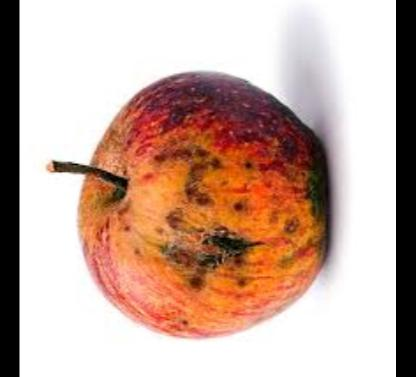defect: (148, 130, 303, 292)
